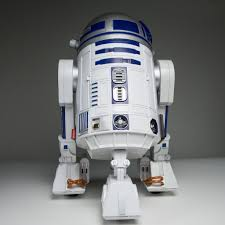r2d2: (51, 13, 178, 221)
